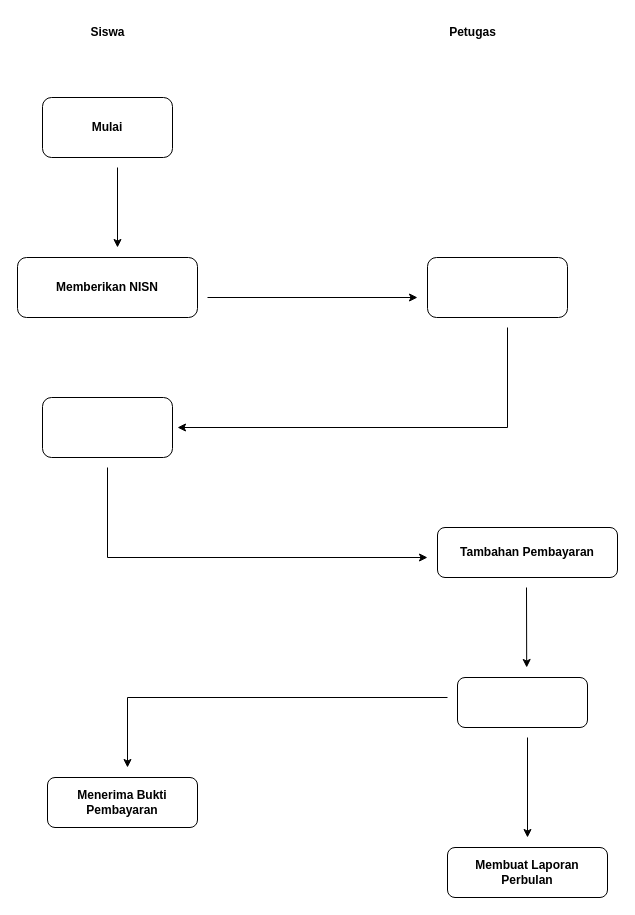
Image size: 635x915. Some labels were removed from this diagram. Here are the shapes that lost their labels. From the top down, the centre of each, then its label:
At point 497,287: "Login".
At point 107,427: "Bayar spp".
At point 522,702: "Input Transaksi".
